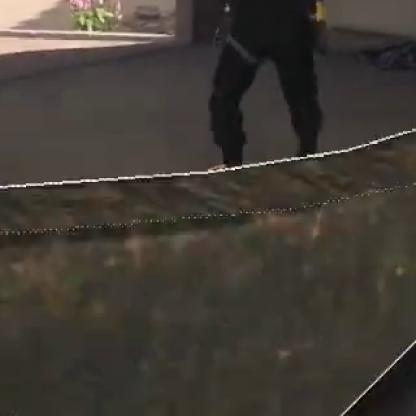enemy: (200, 1, 330, 169)
